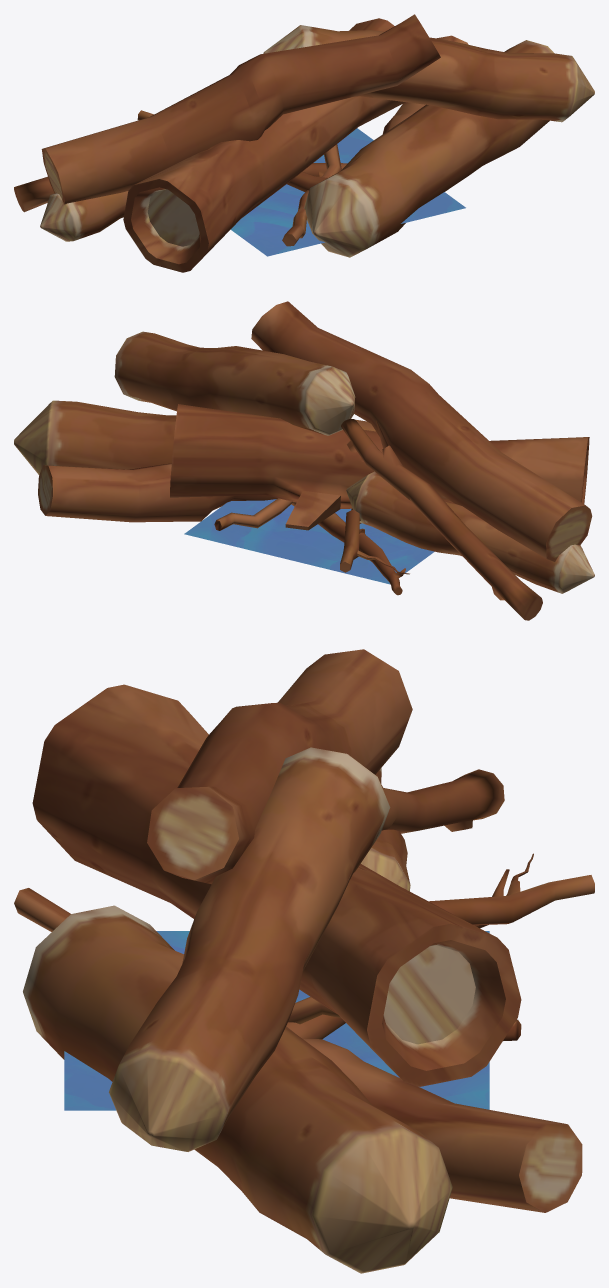
File: DammWater.fbx
3 views of the same model, one above another, from view 1: azimuth 30°, elevation 25°; view 2: azimuth 150°, elevation 25°; view 3: azimuth 270°, elevation 25° (orthographic). The views are drawn at different scales.
Visible parts, largest first — view 1: Dam; view 2: Dam; view 3: Dam.
Boxes of the visible parts, x1,y1,x2,y2 form: Dam: [14, 14, 594, 272]; Dam: [14, 301, 594, 620]; Dam: [14, 649, 594, 1273].
Bounding box in the file's own units: 271 × 92.17 × 137.
